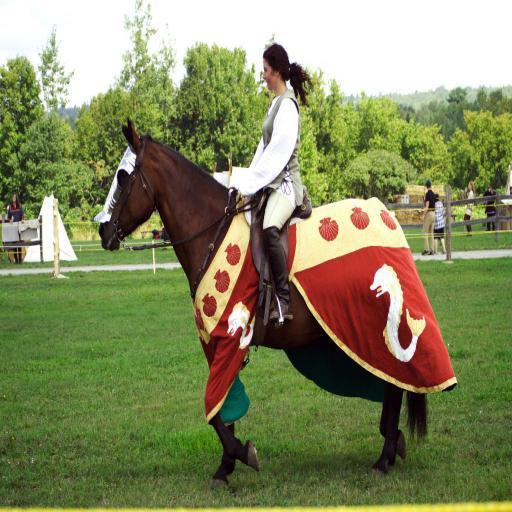horse: (97, 116, 432, 488)
